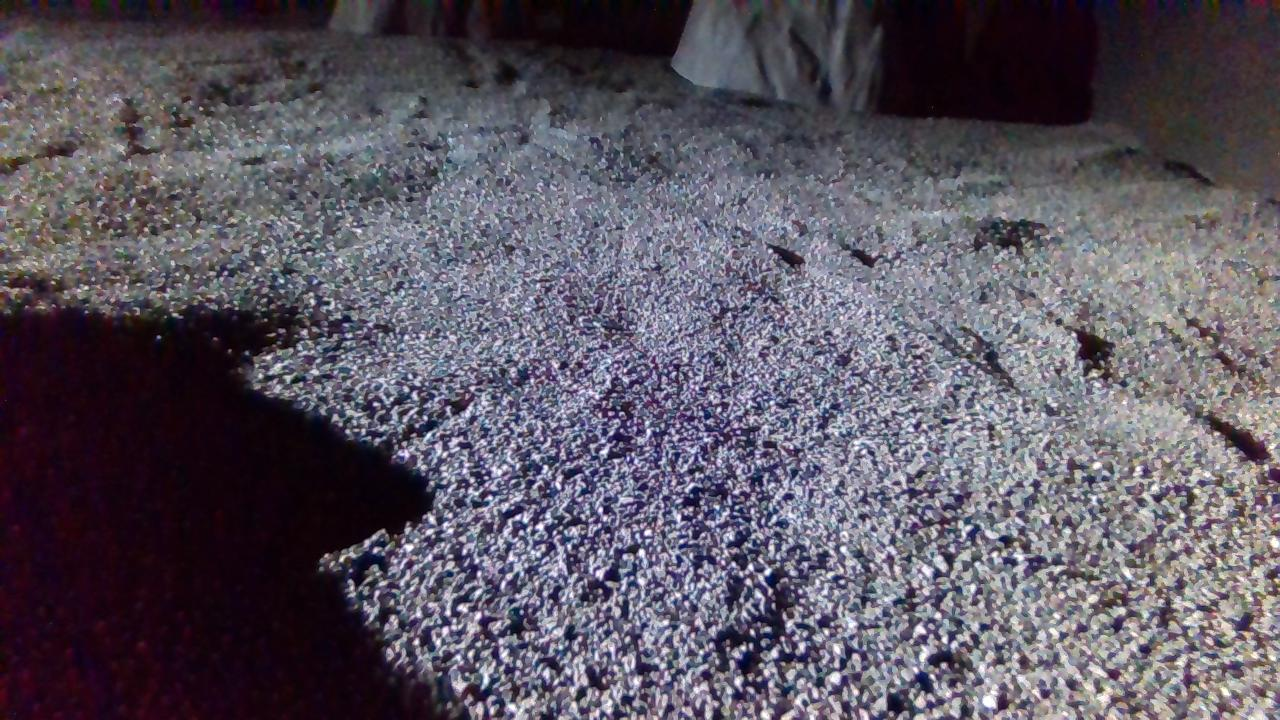rock: (672, 0, 883, 110), (328, 0, 436, 33)
